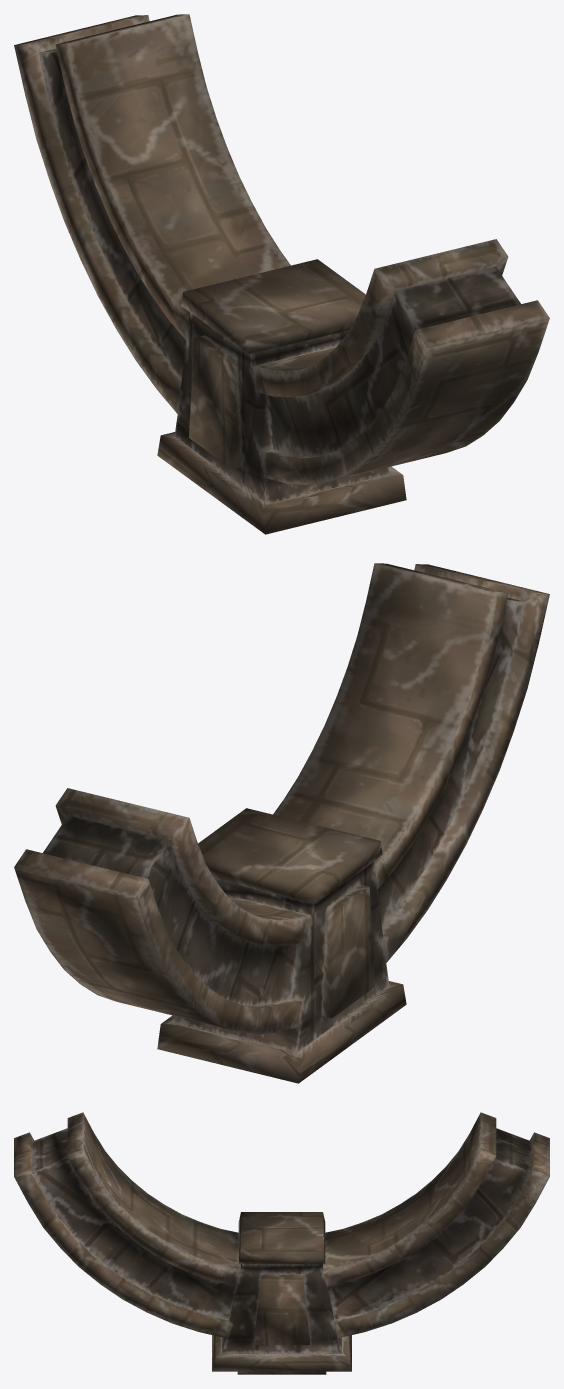
Rendered from arco 4.fbx.
The picture shows the model from 3 angles, top to bottom: view 1: azimuth 30°, elevation 25°; view 2: azimuth 150°, elevation 25°; view 3: azimuth 270°, elevation 25°; orthographic projection. The views are drawn at different scales.
Parts seen in each view (by area): view 1: arco 4; view 2: arco 4; view 3: arco 4.
Part boxes in pixels (x1=…): arco 4: x1=14, y1=14, x2=549, y2=534; arco 4: x1=14, y1=563, x2=549, y2=1083; arco 4: x1=14, y1=1112, x2=549, y2=1374.
Bounding box in the file's own units: 34.31 × 79.41 × 172.
1 material, 1 textured.
